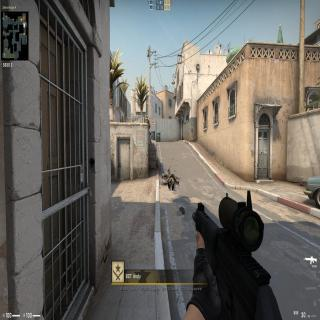T-Head: (146, 117, 148, 122)
